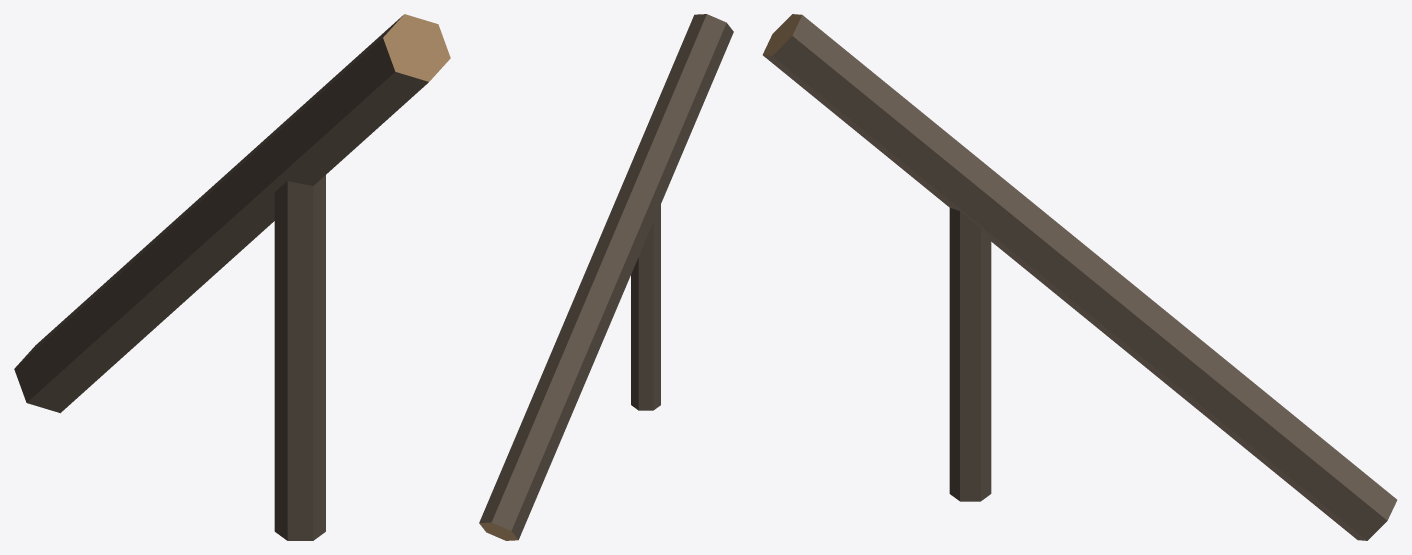
File: Wood_Wall_Support.fbx
The picture shows the model from 3 angles, left to right: view 1: azimuth 30°, elevation 25°; view 2: azimuth 150°, elevation 25°; view 3: azimuth 270°, elevation 25°; orthographic projection. The views are drawn at different scales.
Visible parts, largest first — view 1: Wood_Wall_Support; view 2: Wood_Wall_Support; view 3: Wood_Wall_Support.
Boxes of the visible parts, box(x1,y1,x2,y2) form: Wood_Wall_Support: box(14, 14, 450, 540); Wood_Wall_Support: box(479, 14, 733, 540); Wood_Wall_Support: box(762, 14, 1397, 540).
Bounding box in the file's own units: 4.58 × 51.42 × 56.34.
